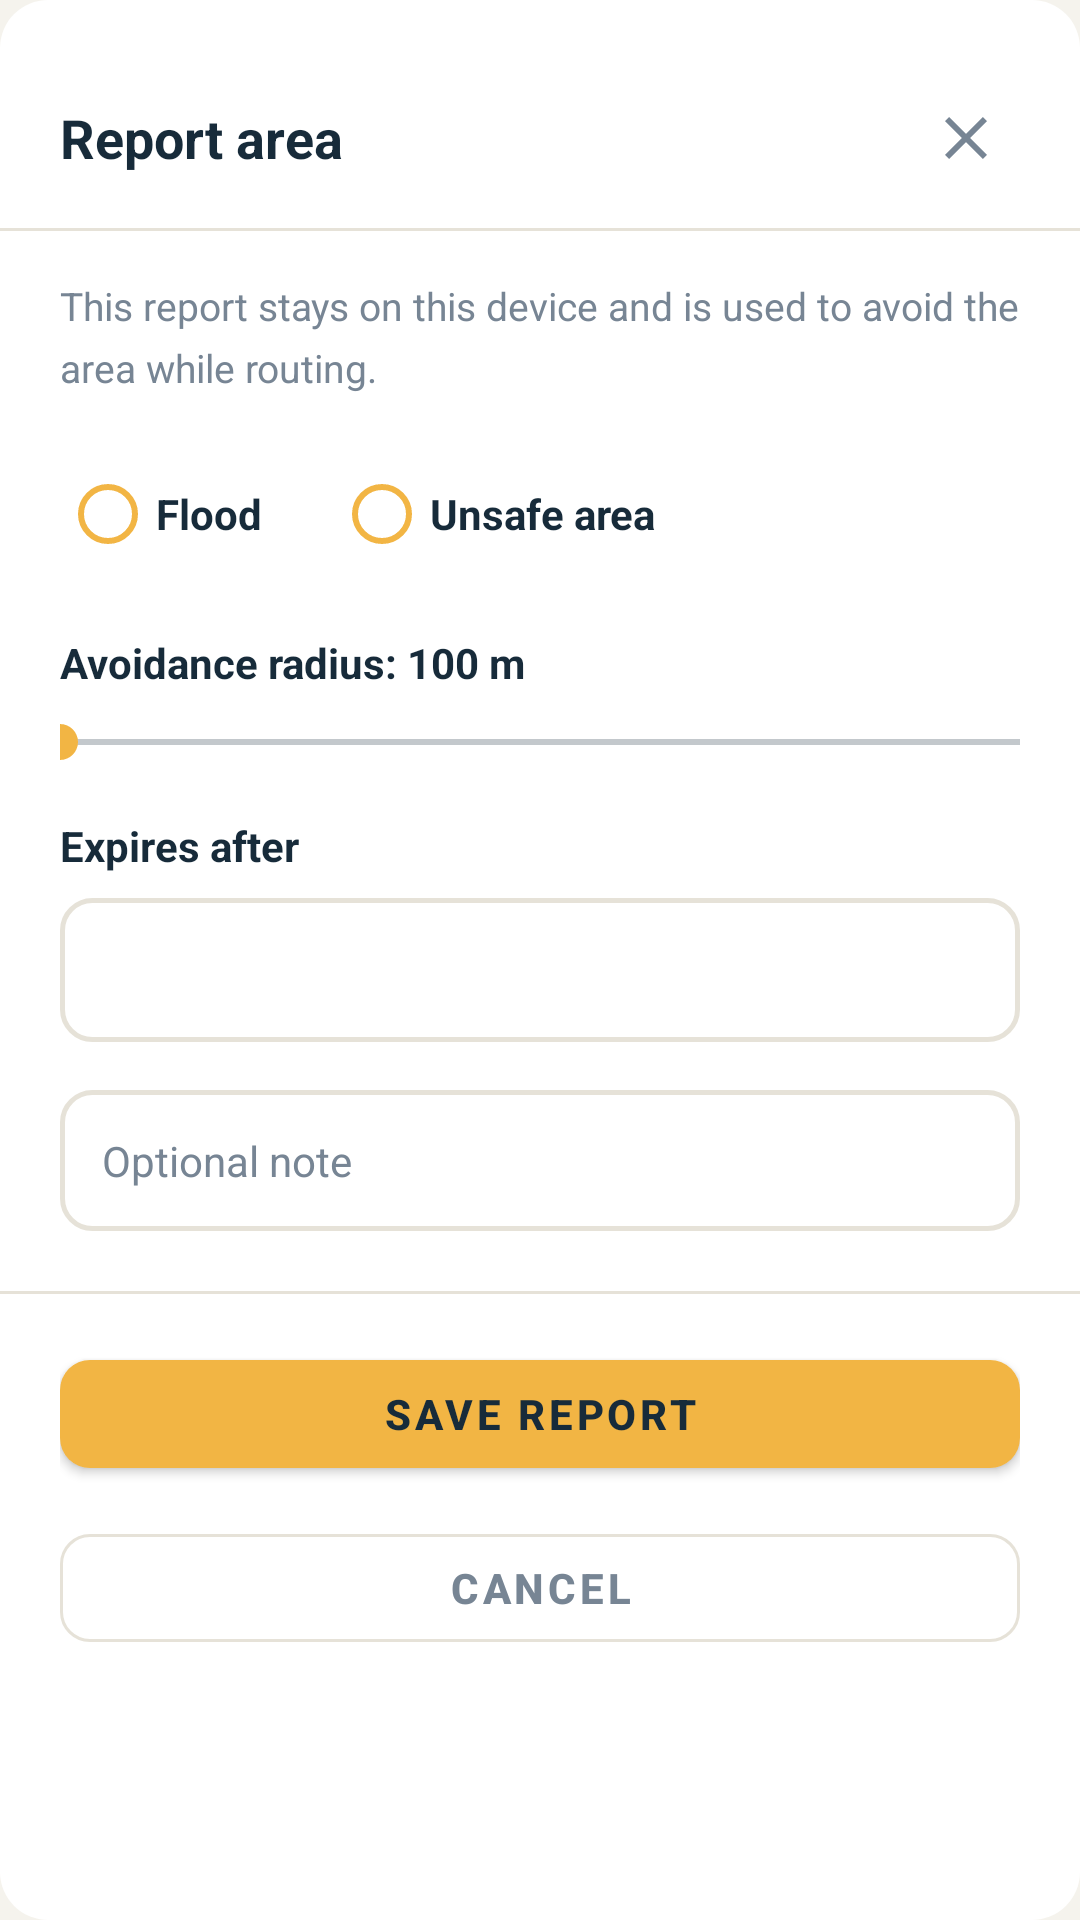

Icons on this 1080px x 1920px Android screen, each with its box as [x1,y1,x2,y2]:
Close: [945,117,987,159]
